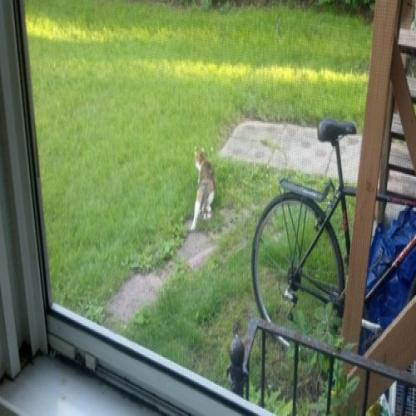Target: (189, 143, 218, 232)
